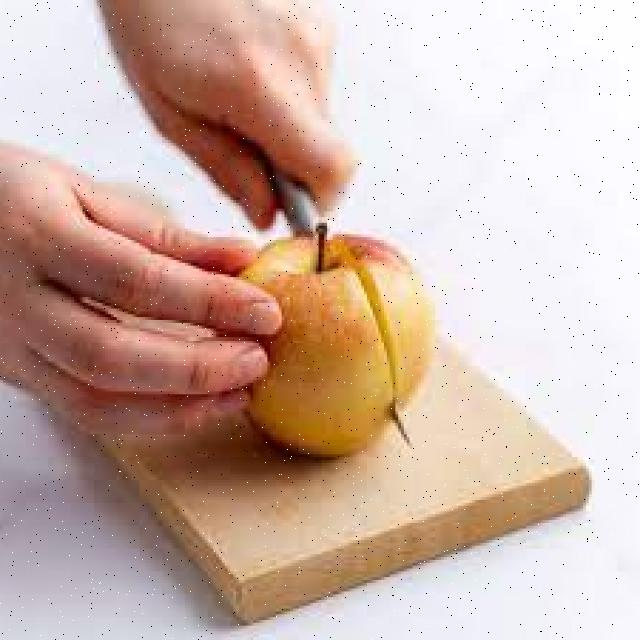Apple: (233, 236, 425, 459)
